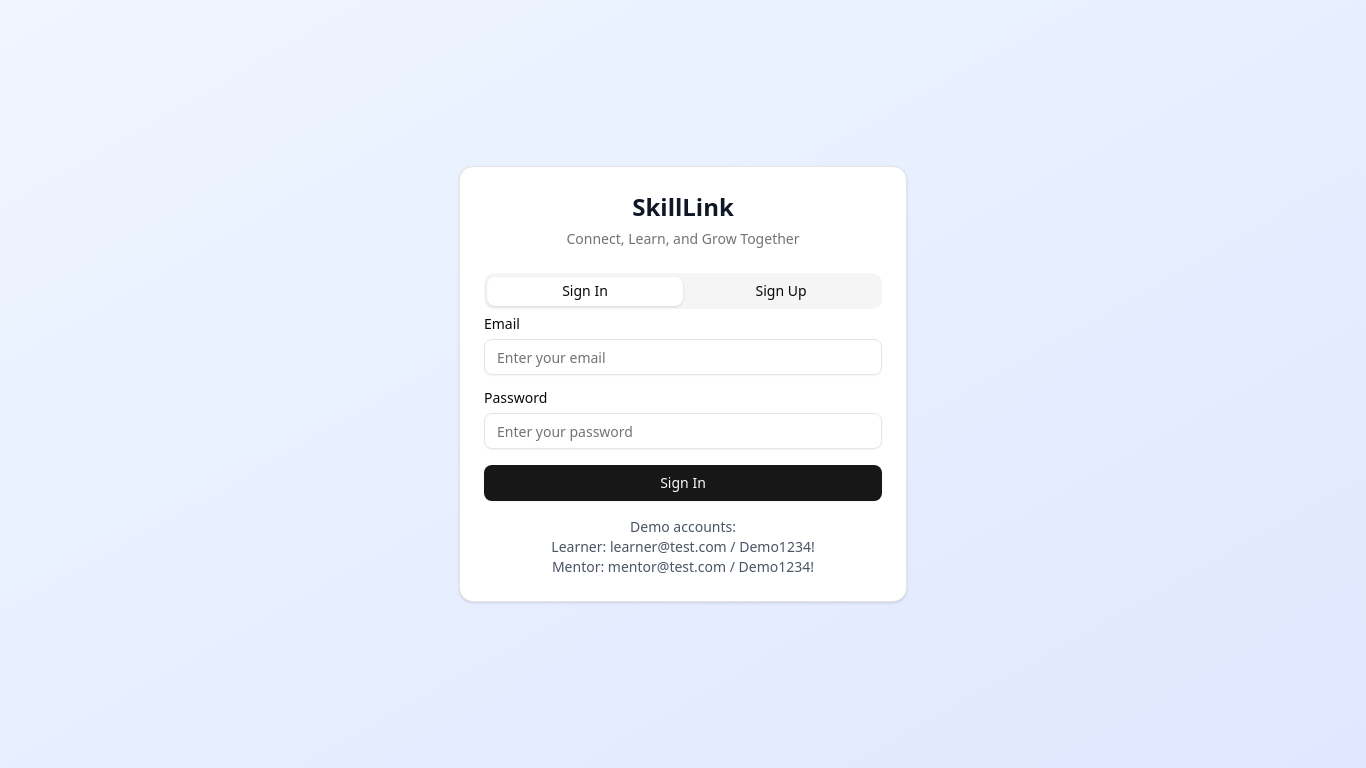
Scenario: AuthForm › should switch between sign in and sign up modes
The width and height of the screenshot is (1366, 768).
Check: the tab "Sign In" is shown, box [487, 276, 683, 306]
// Find and click the toggle button
Click the tab "Sign Up": click(781, 291) [683, 276, 879, 306]
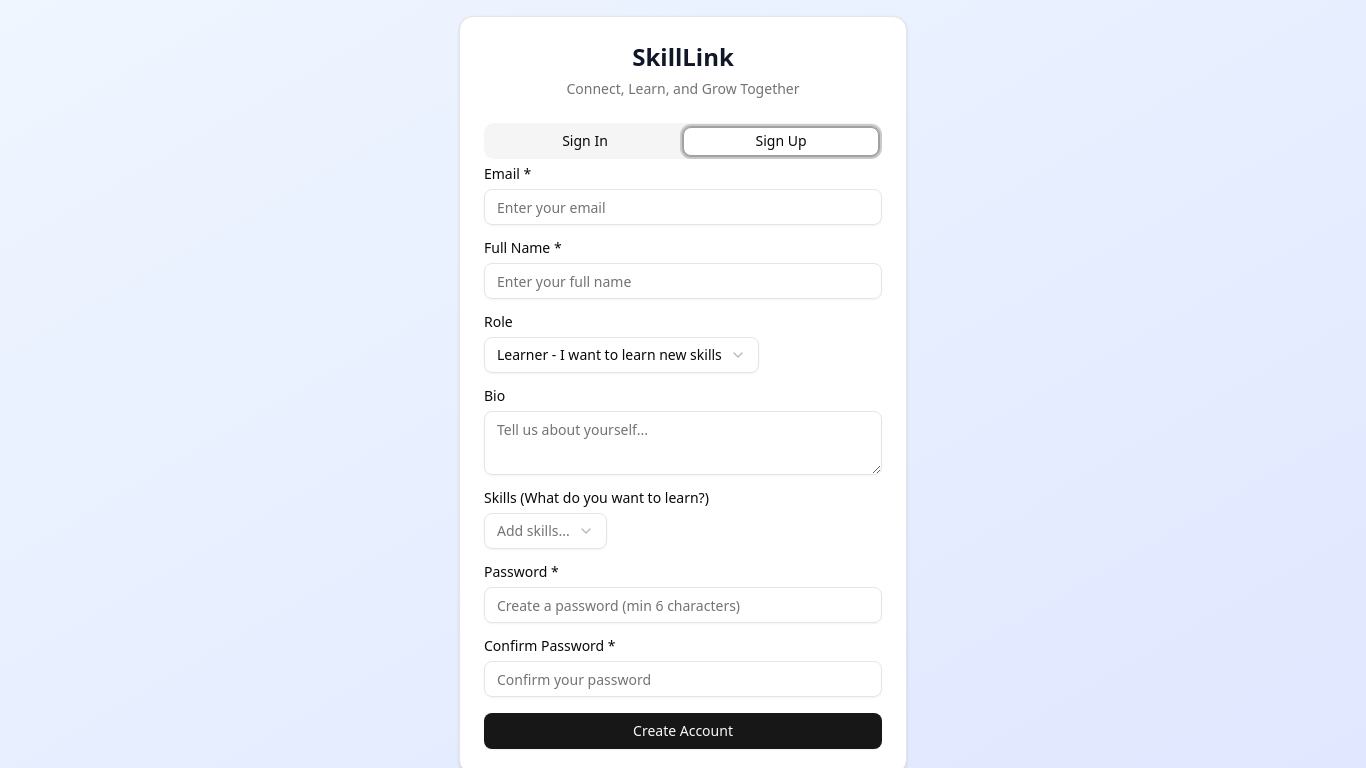
Check: the button "Create Account" is shown, box [484, 713, 882, 749]
